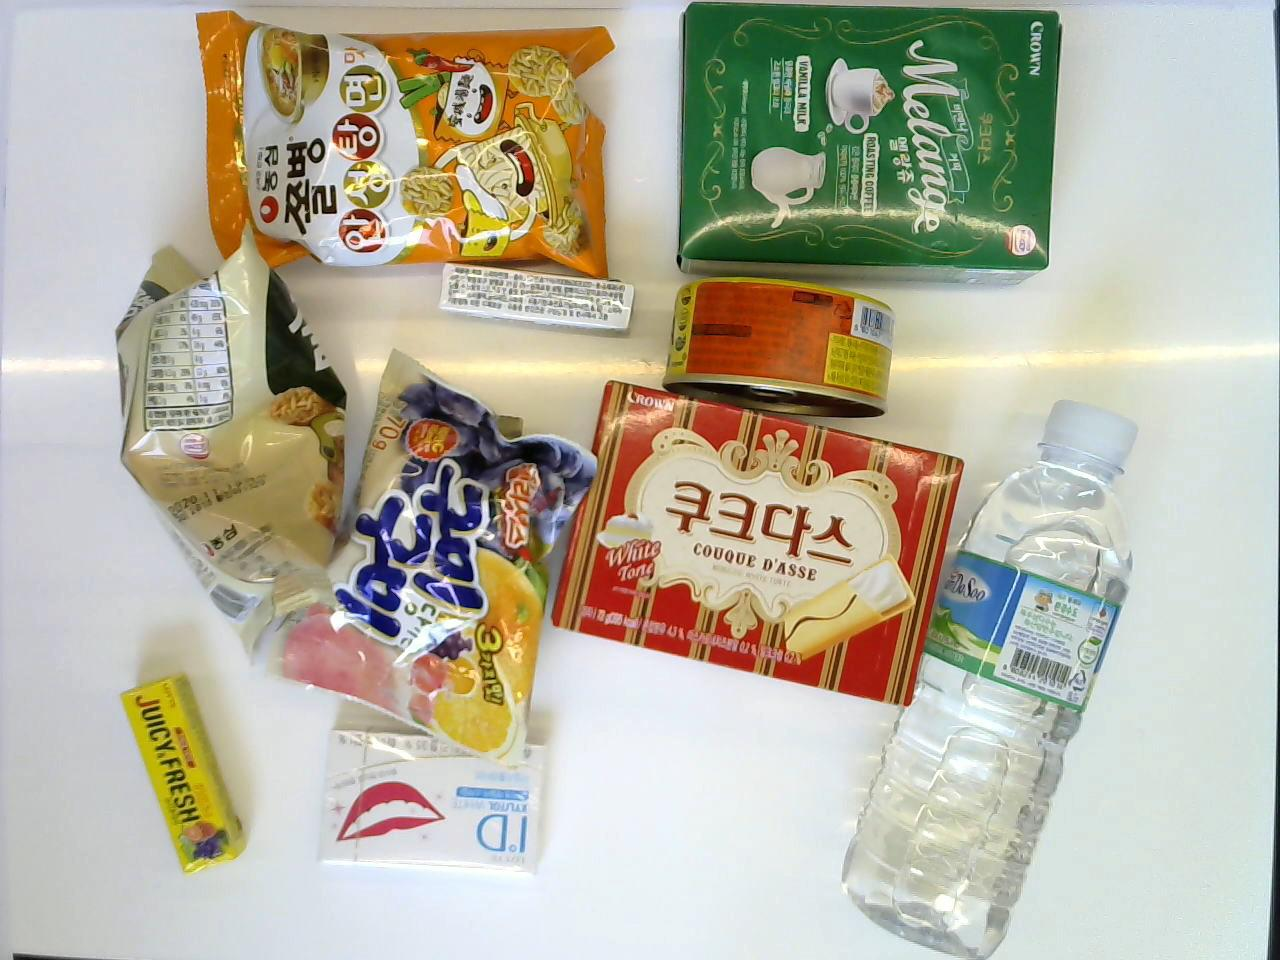ID_gum: (317, 718, 552, 873)
couque_coffee: (674, 0, 1063, 290)
couque_white: (552, 380, 964, 713)
gumi_gumi: (249, 347, 596, 758)
jjolbyung_noodle: (189, 7, 617, 284)
jjolbyung_ori: (110, 226, 372, 655)
juicyfresh: (119, 669, 250, 877)
samdasu: (833, 397, 1141, 957)
spearmint: (436, 262, 637, 337)
tuna: (664, 280, 899, 422)
